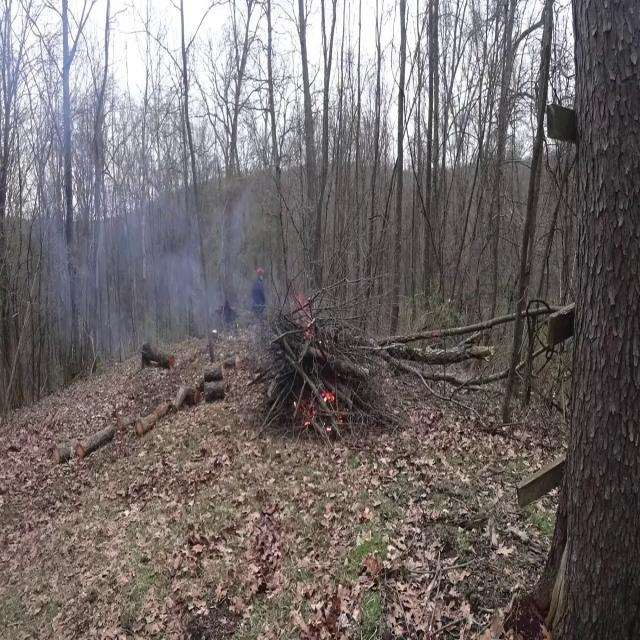Smoke: (48, 155, 329, 361)
